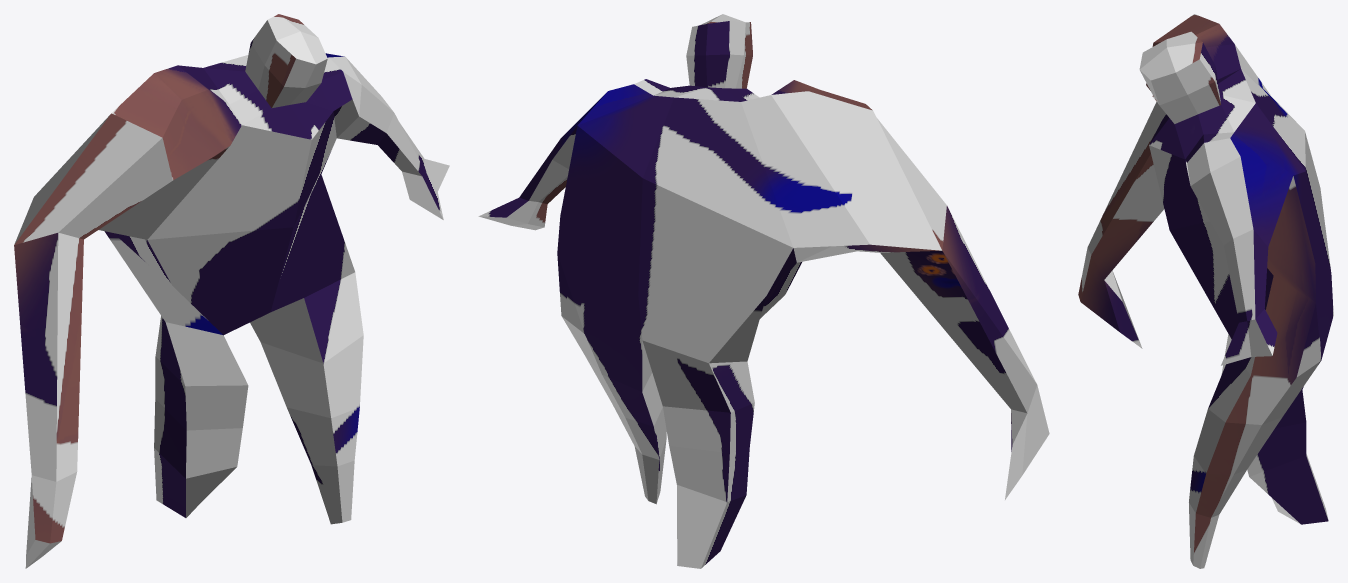
The model's file is monstruo3_caminar_122.obj.
The picture shows the model from 3 angles, left to right: view 1: azimuth 30°, elevation 25°; view 2: azimuth 150°, elevation 25°; view 3: azimuth 270°, elevation 25°; orthographic projection. The views are drawn at different scales.
Parts seen in each view (by area): view 1: monstruo_grande; view 2: monstruo_grande; view 3: monstruo_grande.
Boxes of the visible parts, left/top/right/bottom form: monstruo_grande: left=14, top=14, right=449, bottom=568; monstruo_grande: left=478, top=14, right=1049, bottom=568; monstruo_grande: left=1078, top=14, right=1333, bottom=568.
Size of the model in its own units: 2.92 by 2.87 by 1.33.
